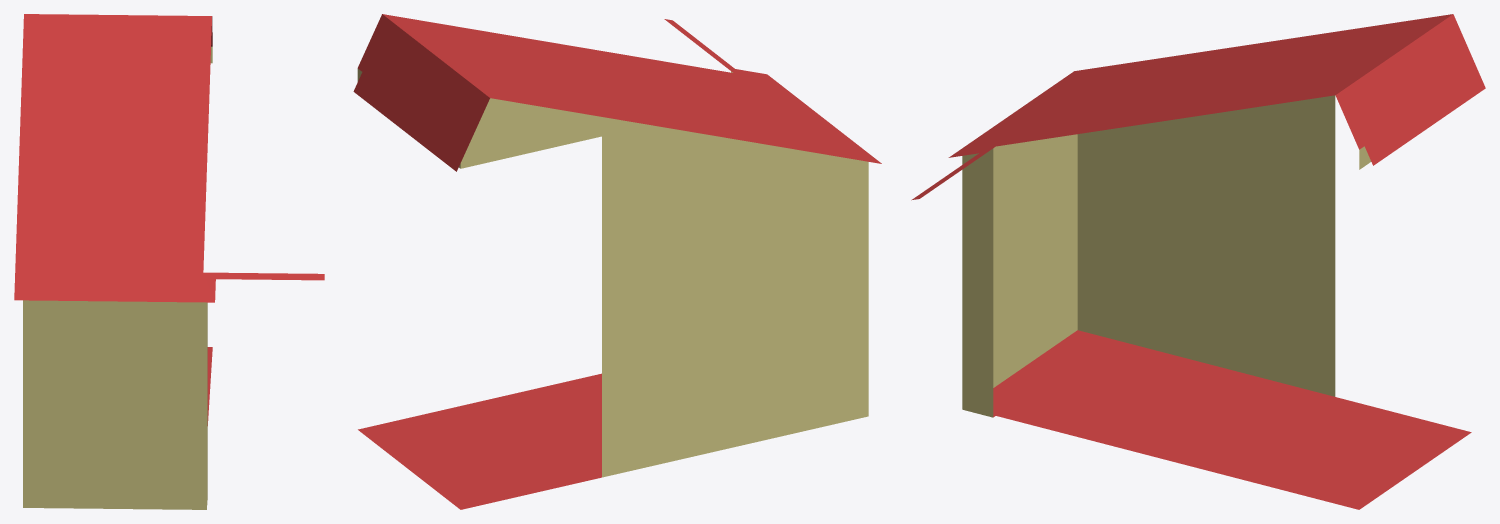
3 renders of one model, left to right at view 1: azimuth 30°, elevation 25°; view 2: azimuth 150°, elevation 25°; view 3: azimuth 270°, elevation 25°, orthographic. The views are drawn at different scales.
Bounding box in the file's own units: 10.83 × 14.16 × 11.11.
